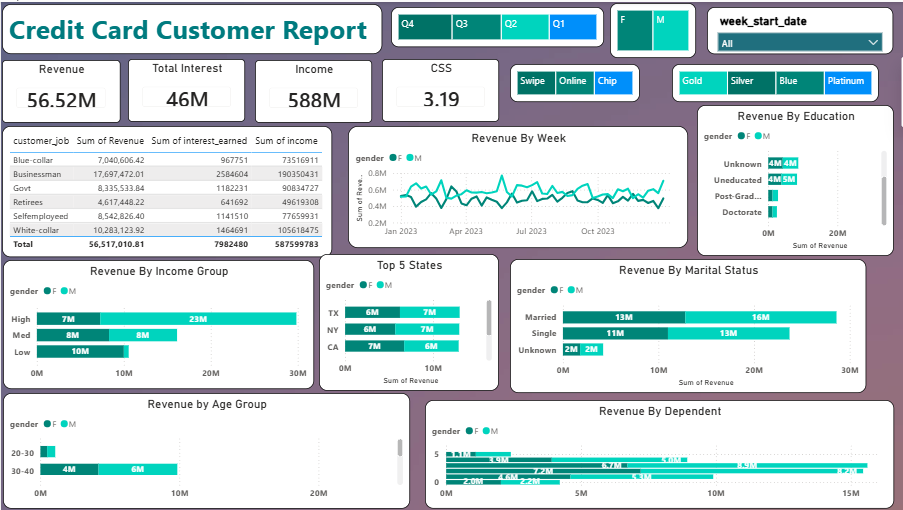

Layout of this report page (visuals, bound fields, positions):
{"tool":"powerbi","page":{"name":"CC CUSTOMER","canvas":[1280,720],"ordinal":2},"visuals":[{"type":"textbox","box":[1.2,2.5,538.8,71.2],"z":0},{"type":"tableEx","fields":{"Values":["public cust_detail.customer_job","Sum(public cc_detail.Revenue)","Sum(public cc_detail.interest_earned)","Sum(public cust_detail.income)"]},"box":[1.4,175.7,467.7,185.7],"z":1000},{"type":"cardVisual","title":"Revenue","fields":{"Data":["Sum(public cc_detail.Revenue)"]},"box":[1.2,82.5,167.5,88.8],"z":2000},{"type":"cardVisual","title":"Total Interest","fields":{"Data":["Sum(public cc_detail.total_trans_amt)"]},"box":[180,81.2,166.2,88.8],"z":3000},{"type":"cardVisual","title":"Income","fields":{"Data":["Sum(public cust_detail.income)"]},"box":[360,82.5,166.2,88.8],"z":4000},{"type":"cardVisual","title":"CSS","fields":{"Data":["Avg(public cust_detail.cust_satisfaction_score)"]},"box":[540,81.2,166.2,88.8],"z":5000},{"type":"slicer","fields":{"Values":["public cc_detail.week_start_date"]},"box":[1000.6,7.1,263.6,66.6],"z":6000},{"type":"treemap","fields":{"Group":["public cc_detail.qtr"],"Values":["Avg(public cc_detail.client_num)"]},"box":[552.8,7.1,301.9,56.7],"z":7000},{"type":"treemap","fields":{"Values":["Avg(public cc_detail.client_num)"],"Group":["public cust_detail.gender"]},"box":[863.1,1.4,121.9,78],"z":8000},{"type":"treemap","fields":{"Values":["Avg(public cc_detail.client_num)"],"Group":["public cc_detail.card_category"]},"box":[951,87.9,293.4,53.9],"z":9000},{"type":"lineChart","title":"Revenue By Week","fields":{"Y":["Sum(public cc_detail.Revenue)"],"Series":["public cust_detail.gender"],"Category":["public cc_detail.week_start_date.Variation.Date Hierarchy.Year","public cc_detail.week_start_date.Variation.Date Hierarchy.Month","public cc_detail.week_start_date.Variation.Date Hierarchy.Day"]},"box":[491.8,175.7,481.9,172.9],"z":10000},{"type":"barChart","title":"Revenue By Income Group","fields":{"Category":["public cust_detail.IncomeGroup"],"Y":["Sum(public cc_detail.Revenue)"],"Series":["public cust_detail.gender"]},"box":[2.8,365.7,440.8,182.8],"z":11000},{"type":"barChart","title":"Revenue by Age Group","fields":{"Category":["public cust_detail.AgeGroup"],"Y":["Sum(public cc_detail.Revenue)"],"Series":["public cust_detail.gender"]},"box":[2.8,554.2,576.9,164.4],"z":12000},{"type":"barChart","title":"Revenue By Dependent","fields":{"Category":["public cust_detail.dependent_count"],"Y":["Sum(public cc_detail.Revenue)"],"Series":["public cust_detail.gender"]},"box":[600.9,564.1,664.7,154.5],"z":13000},{"type":"barChart","title":"Revenue By Education","fields":{"Category":["public cust_detail.education_level"],"Y":["Sum(public cc_detail.Revenue)"],"Series":["public cust_detail.gender"]},"box":[986.5,146,279.2,214],"z":14000},{"type":"barChart","title":"Top 5 States","fields":{"Category":["public cust_detail.state_cd"],"Y":["Sum(public cc_detail.Revenue)"],"Series":["public cust_detail.gender"]},"box":[450.7,357.2,255.1,194.2],"z":15000},{"type":"barChart","title":"Revenue By Marital Status","fields":{"Category":["public cust_detail.marital_status"],"Y":["Sum(public cc_detail.Revenue)"],"Series":["public cust_detail.gender"]},"box":[721.4,364.3,504.6,189.9],"z":16000},{"type":"treemap","fields":{"Values":["Avg(public cc_detail.client_num)"],"Group":["public cc_detail.use_chip"]},"box":[721.4,87.9,184.3,53.9],"z":17000}]}

Visuals, with their boxes in screenshot pixels (x1, y1, x2, y2), scaled from the page's 1280x720 canvas onto the 903x510 screenshot:
textbox: 1 2 381 52
tableEx - public cust_detail.customer_job x Sum(public cc_detail.Revenue): 1 124 331 256
"Revenue" cardVisual: 1 58 119 121
"Total Interest" cardVisual: 127 58 244 120
"Income" cardVisual: 254 58 371 121
"CSS" cardVisual: 381 58 498 120
slicer - public cc_detail.week_start_date: 706 5 892 52
treemap - public cc_detail.qtr x Avg(public cc_detail.client_num): 390 5 603 45
treemap - Avg(public cc_detail.client_num) x public cust_detail.gender: 609 1 695 56
treemap - Avg(public cc_detail.client_num) x public cc_detail.card_category: 671 62 878 100
"Revenue By Week" lineChart: 347 124 687 247
"Revenue By Income Group" barChart: 2 259 313 389
"Revenue by Age Group" barChart: 2 393 409 509
"Revenue By Dependent" barChart: 424 400 893 509
"Revenue By Education" barChart: 696 103 893 255
"Top 5 States" barChart: 318 253 498 391
"Revenue By Marital Status" barChart: 509 258 865 393
treemap - Avg(public cc_detail.client_num) x public cc_detail.use_chip: 509 62 639 100
